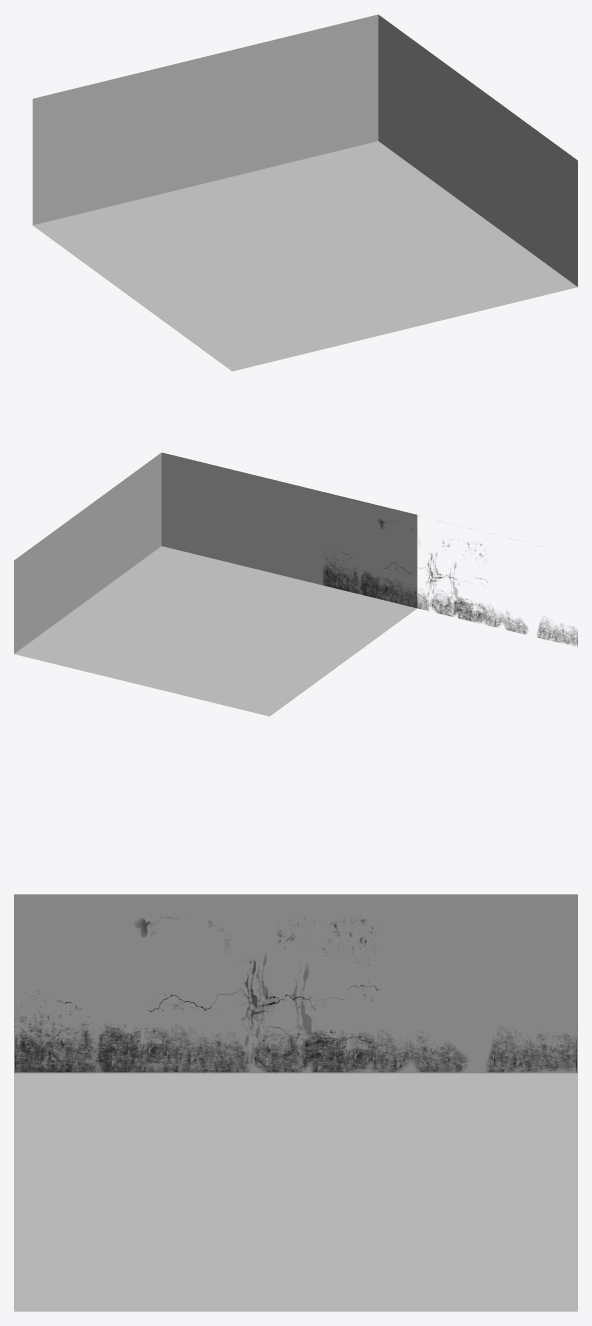
Rendered from room_test1.gltf.
The picture shows the model from 3 angles, top to bottom: view 1: azimuth 30°, elevation 25°; view 2: azimuth 150°, elevation 25°; view 3: azimuth 270°, elevation 25°; orthographic projection. The views are drawn at different scales.
Parts seen in each view (by area): view 1: Cube; view 2: Cube, wall_test_decals.001; view 3: Cube, wall_test_decals.
Part boxes in pixels (x1,y1,x2,y2): Cube: [32, 14, 577, 371]; Cube: [14, 452, 417, 716]; wall_test_decals.001: [323, 519, 577, 646]; Cube: [14, 894, 577, 1311]; wall_test_decals: [15, 917, 576, 1072].
Bounding box in the file's own units: 16.3 × 3.5 × 10.
